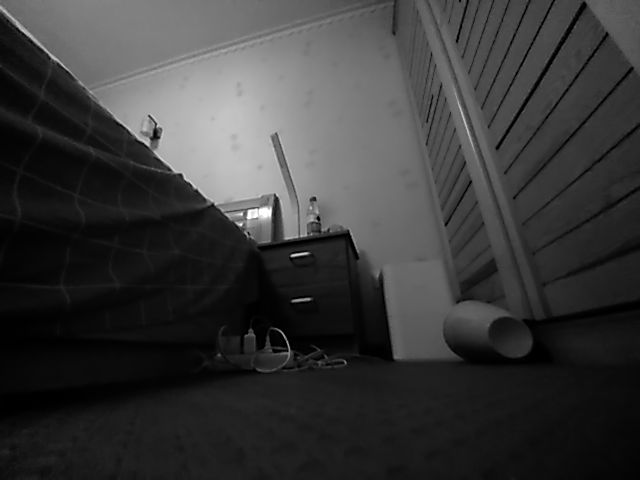others: (442, 313, 534, 362)
power strip: (203, 330, 294, 372)
wire: (295, 343, 350, 368)
